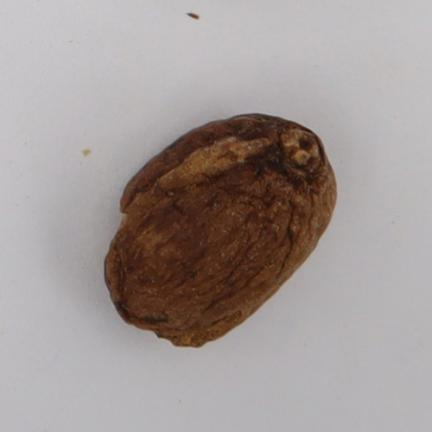full-black: (105, 114, 336, 346)
